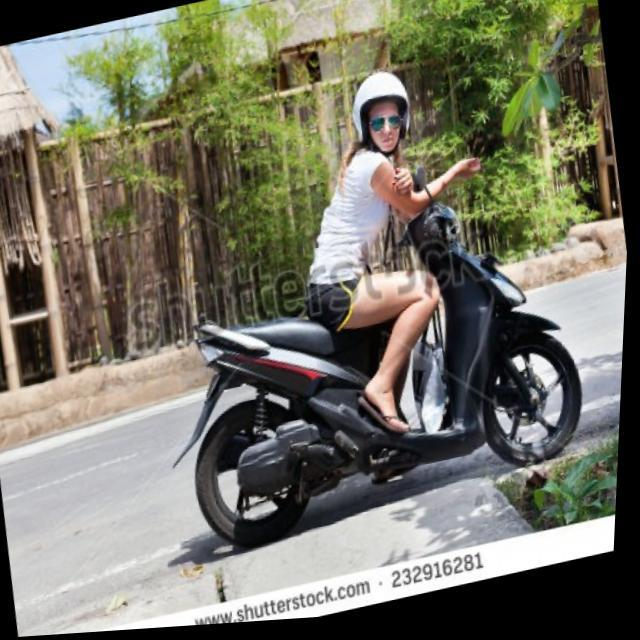Helmet: (347, 65, 419, 155)
